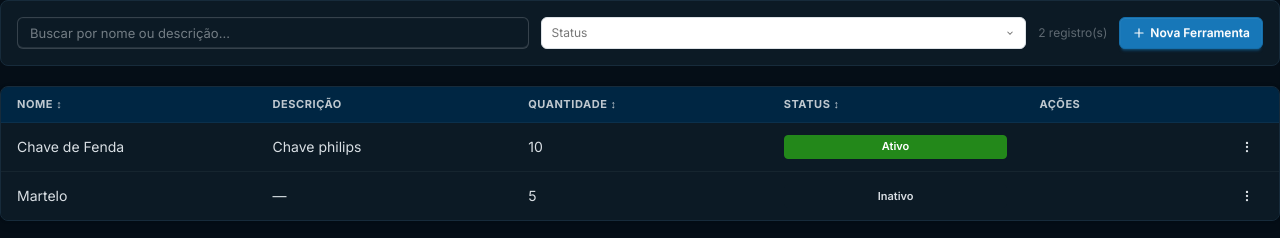
Test: filters to inactive tools when Inativo option selected in the MultiSelect
Click the button "Status".
click(569, 32)  # box left=541, top=17, right=1026, bottom=49
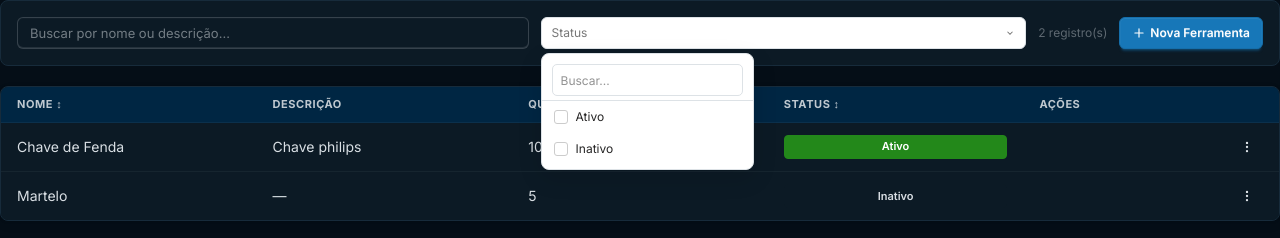
Click the text "Inativo".
click(583, 148)  # box left=554, top=141, right=613, bottom=156
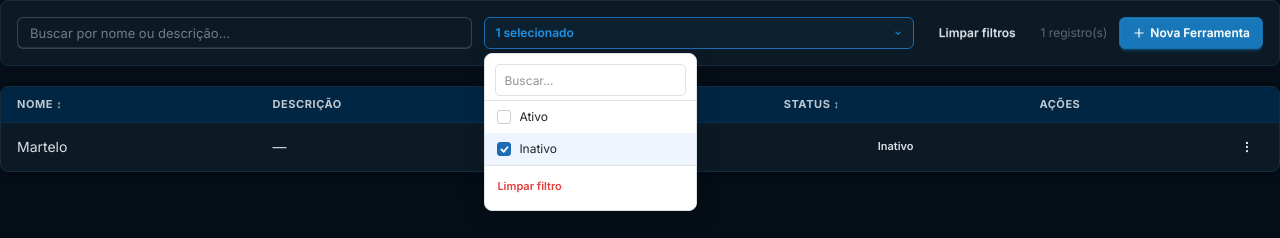
Expected: the text "Martelo" is shown, left=1, top=122, right=257, bottom=171
Expected: the button "Chave de Fenda" is gone
